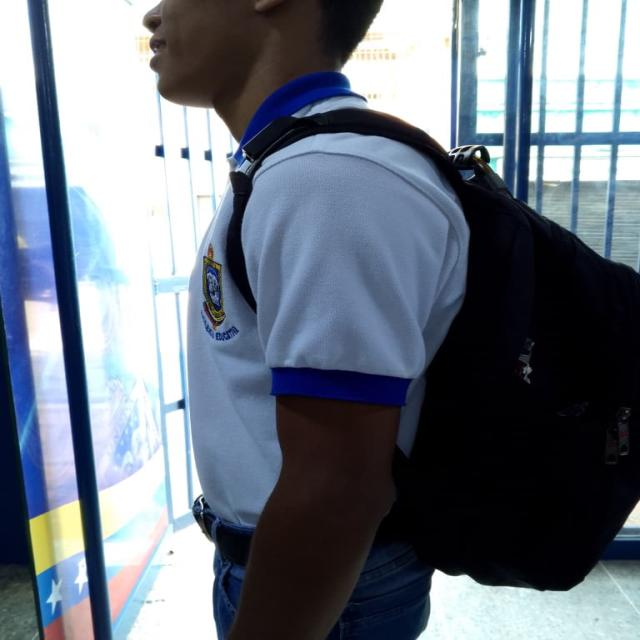uniforme_superior: (186, 71, 472, 531)
